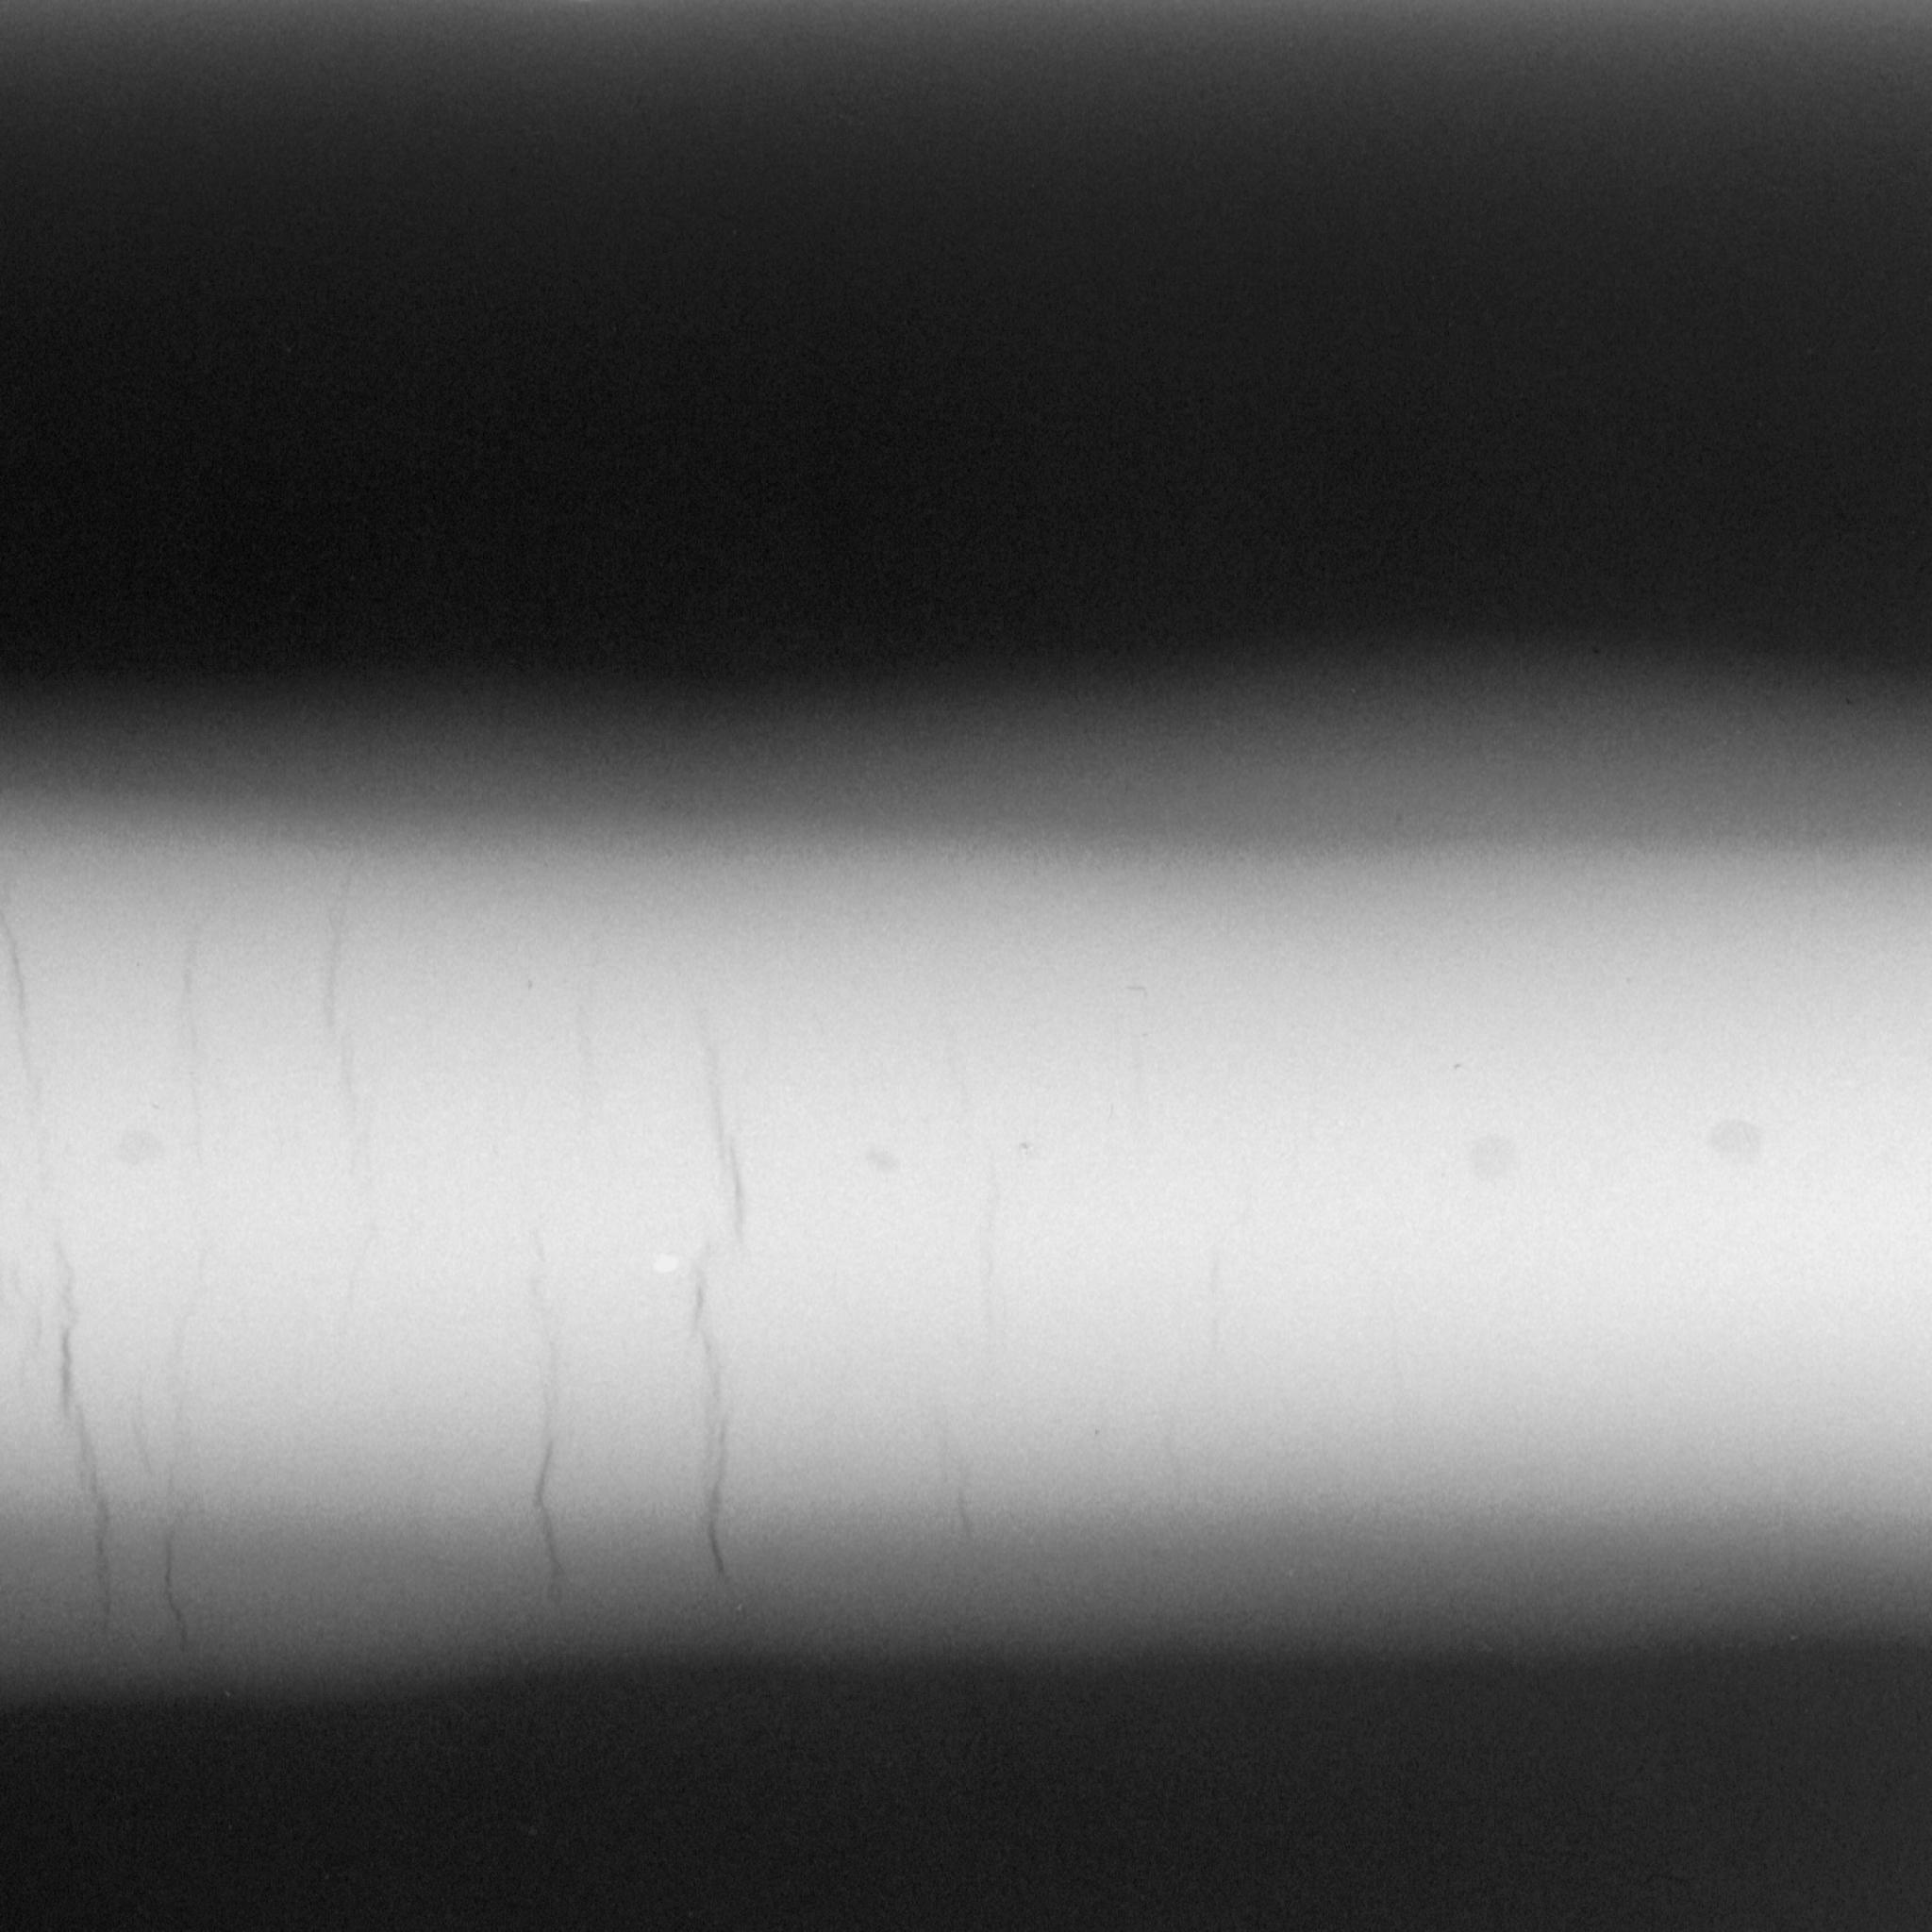PO: (94, 1099, 177, 1178), (842, 1116, 922, 1191), (1691, 1104, 1778, 1168), (1463, 1127, 1536, 1203), (1010, 1120, 1040, 1164), (1447, 1051, 1476, 1086)
TR: (0, 748, 1139, 1700)
